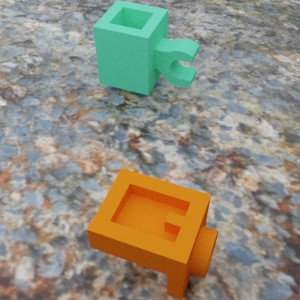lego: (86, 168, 218, 299), (93, 0, 199, 95)
